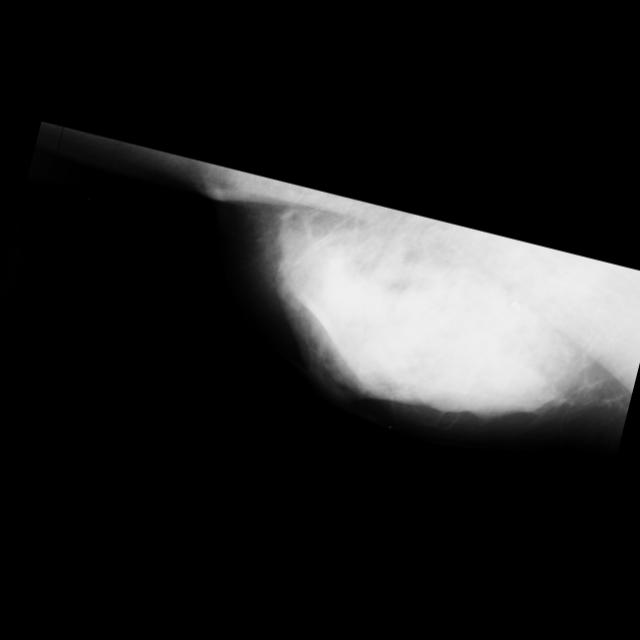SPIC: (223, 297, 634, 627)
